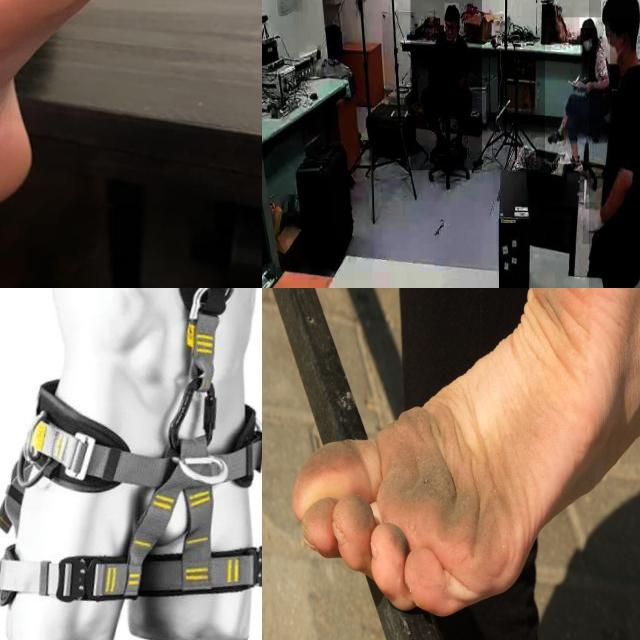Barefoots: (291, 288, 640, 615), (0, 0, 134, 226)
Harness: (0, 288, 262, 602)
face_mask: (603, 23, 621, 76), (581, 28, 593, 56)
face_nomask: (444, 21, 458, 41)
hand_glove: (582, 202, 606, 245)
hand_noglove: (579, 80, 595, 94)
head_nohelmet: (601, 0, 640, 19), (444, 3, 460, 20), (580, 17, 596, 29)
person: (589, 0, 640, 288), (410, 0, 482, 171), (545, 17, 610, 165)
